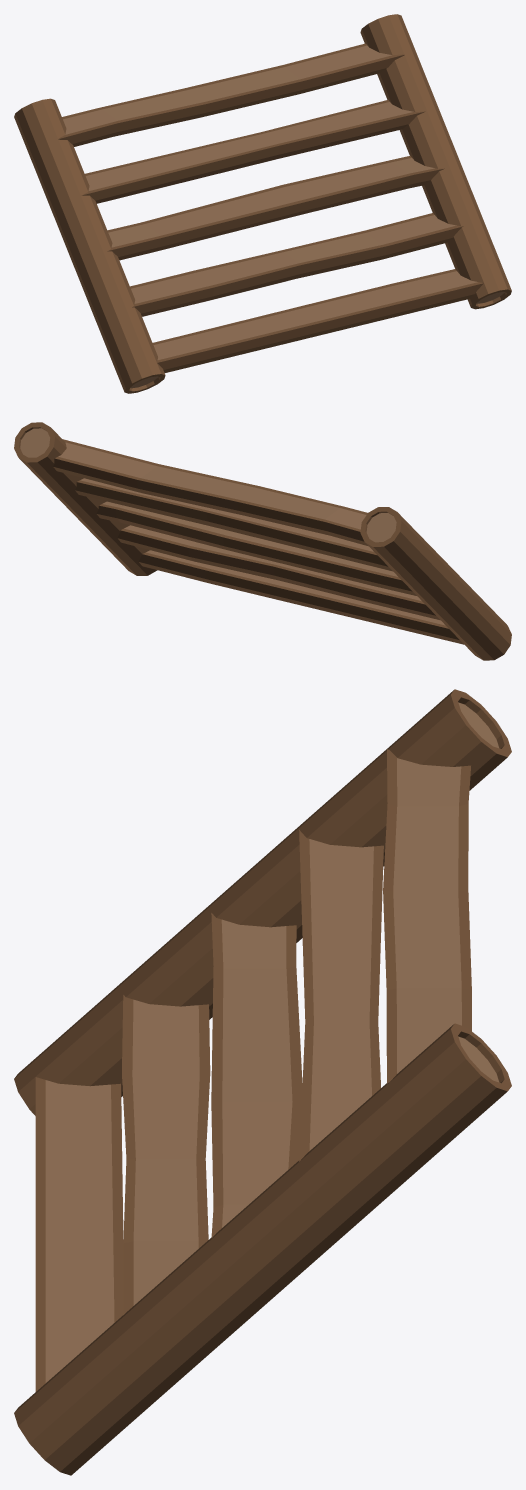
File: mesh_wood_stairs_small.fbx
3 renders of one model, top to bottom at view 1: azimuth 30°, elevation 25°; view 2: azimuth 150°, elevation 25°; view 3: azimuth 270°, elevation 25°, orthographic. The views are drawn at different scales.
Visible parts, largest first — view 1: mesh_wood_stairs_small; view 2: mesh_wood_stairs_small; view 3: mesh_wood_stairs_small.
Boxes of the visible parts, x1,y1,x2,y2 form: mesh_wood_stairs_small: (14, 14, 511, 393); mesh_wood_stairs_small: (14, 422, 511, 660); mesh_wood_stairs_small: (14, 689, 511, 1475).
Bounding box in the file's own units: 2 × 1.11 × 1.13.
